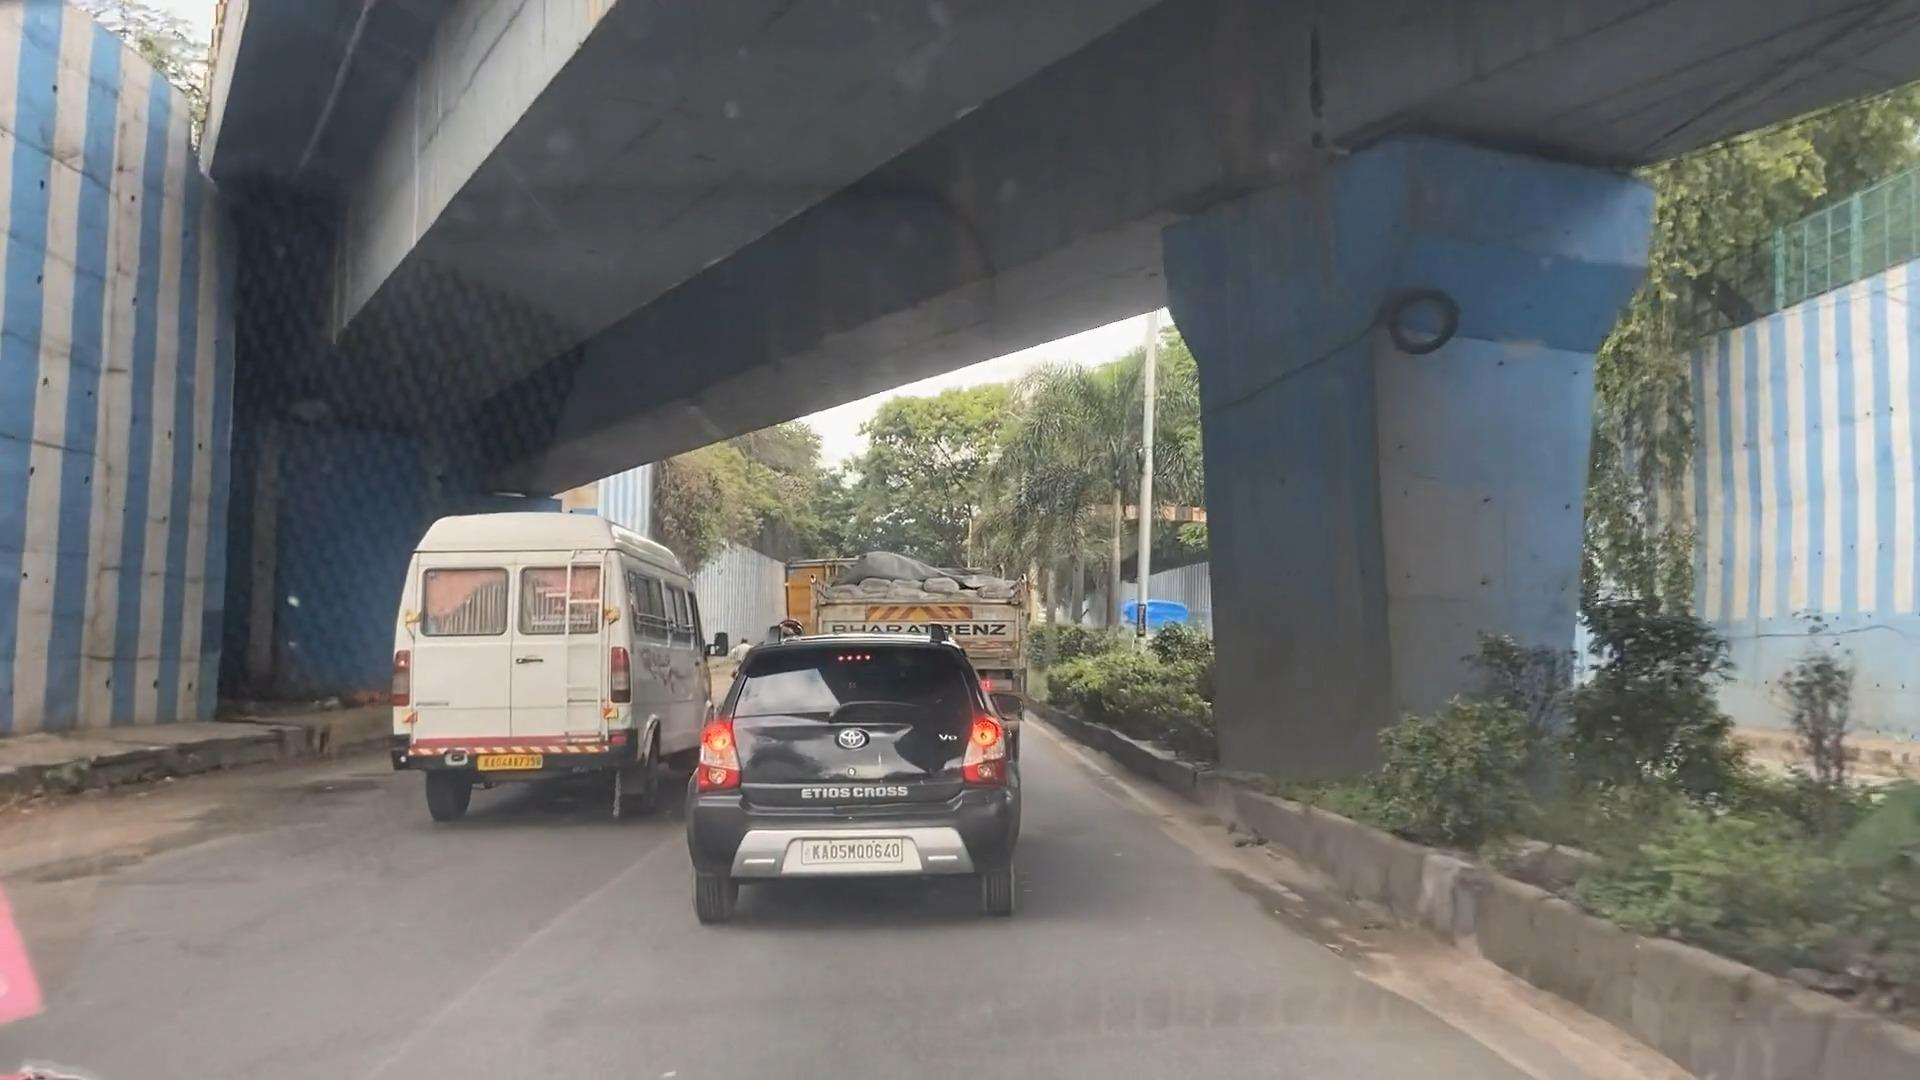HMV: (386, 510, 702, 828), (781, 556, 1038, 782)
LMV: (690, 625, 1036, 931)
